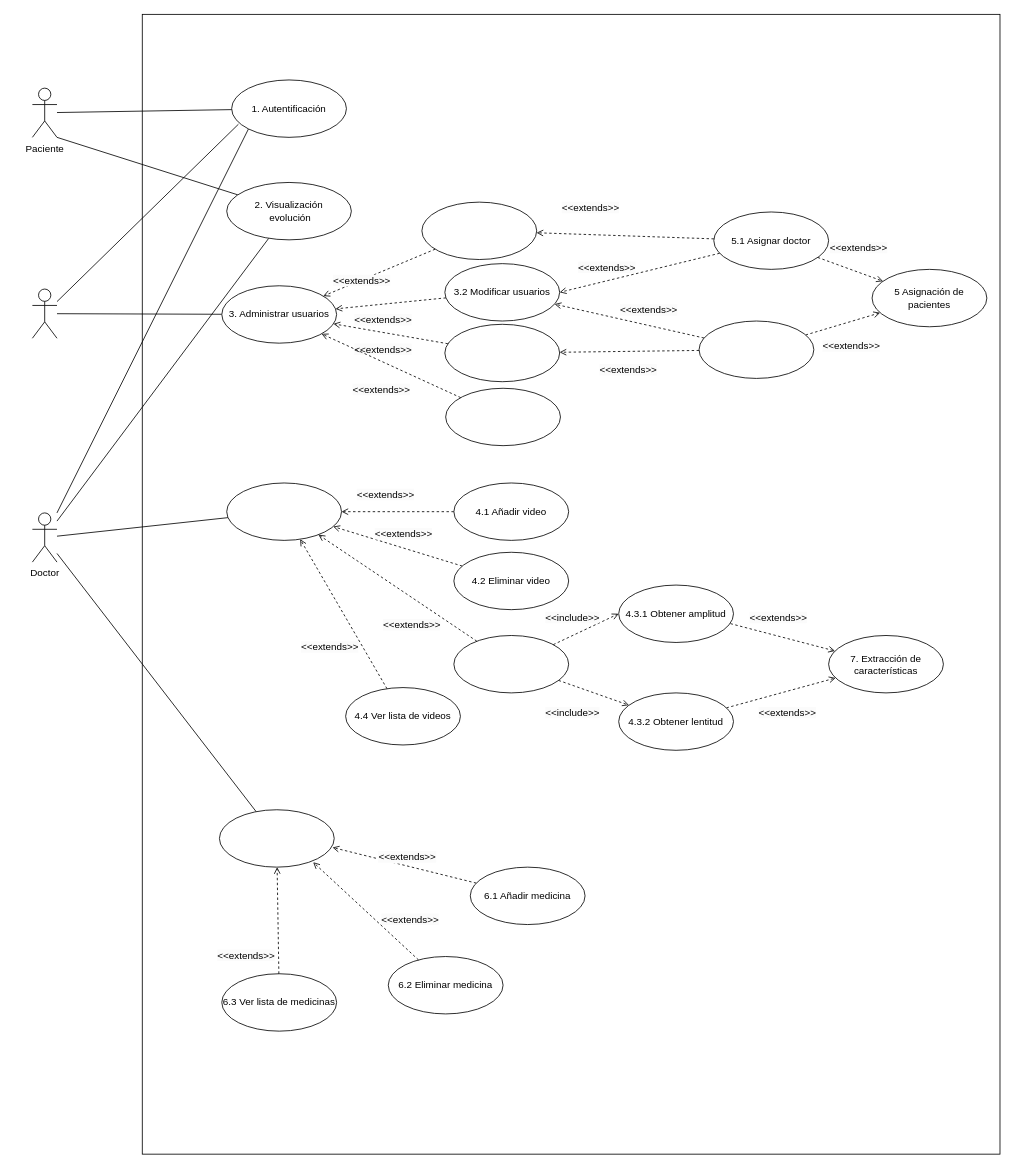
Image size: 1014x1169. Some labels were removed from this diagram. Each missing label, with the centre of its shape:
3.1 Dar de alta usuarios: point (479, 230)
3.3 Dar de baja usuarios: point (502, 352)
3.4 Ver lista de usuarios: point (502, 416)
4. Administrar video: point (284, 511)
4.3 Clasificar video: point (511, 664)
5.2 Desasignar doctor: point (756, 349)
6. Administrar medicinas: point (276, 838)
Administrador: point (44, 313)
